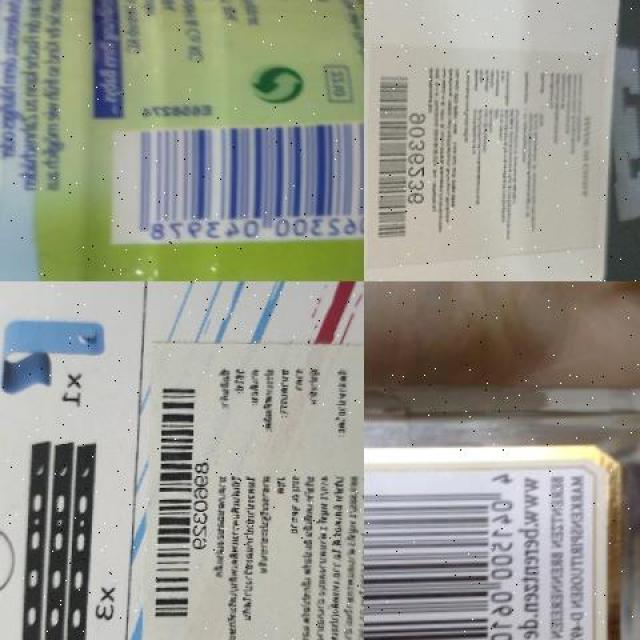Barcode: (108, 122, 364, 246), (364, 469, 519, 640), (147, 370, 209, 638), (371, 69, 426, 252)
